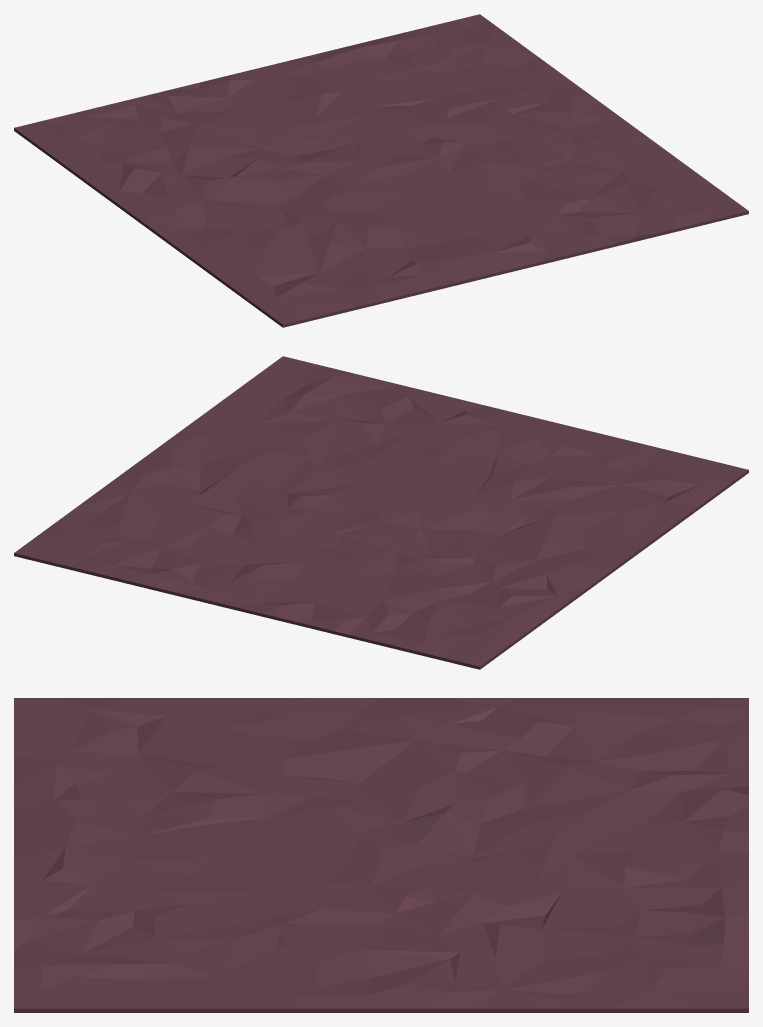
Rendered from PlanetFloorViolet_01.glb.
3 renders of one model, top to bottom at view 1: azimuth 30°, elevation 25°; view 2: azimuth 150°, elevation 25°; view 3: azimuth 270°, elevation 25°, orthographic. The views are drawn at different scales.
Parts seen in each view (by area): view 1: PlanetFloorViolet_01; view 2: PlanetFloorViolet_01; view 3: PlanetFloorViolet_01.
Part boxes in pixels (x1,y1,x2,y2): PlanetFloorViolet_01: (14,14,748,327); PlanetFloorViolet_01: (14,356,748,669); PlanetFloorViolet_01: (14,698,748,1012).
Size of what is drawn, in the model's own units: 16 by 0.2405 by 16.
Materials: 1 (1 with a texture image).
